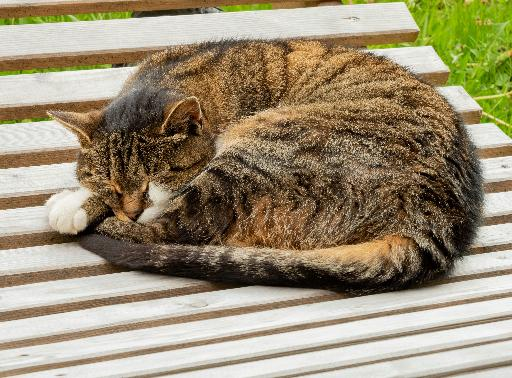cat_sleeping: (47, 40, 485, 294)
